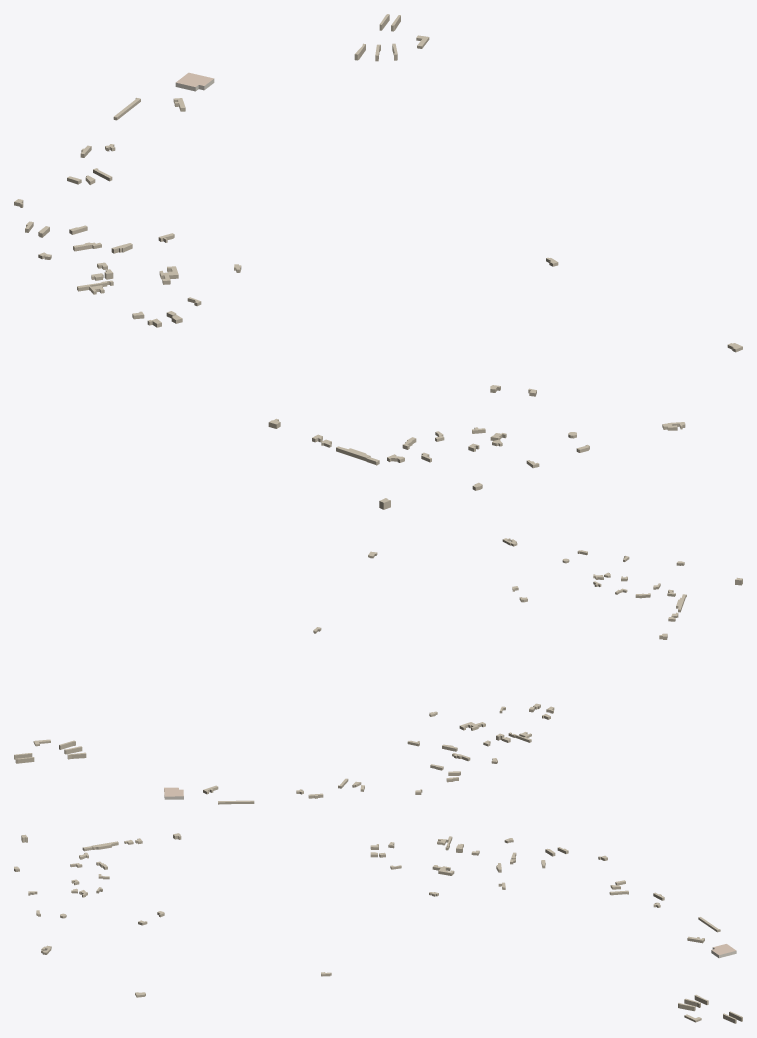
3 renders of one model, top to bottom at view 1: azimuth 30°, elevation 25°; view 2: azimuth 150°, elevation 25°; view 3: azimuth 270°, elevation 25°, orthographic. The views are drawn at different scales.
Bounding box in the file's own units: 1442 × 47.16 × 2441.
